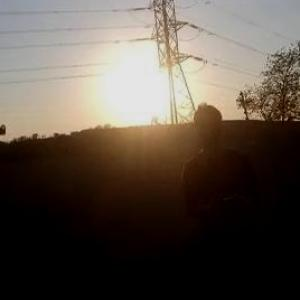follow: (176, 100, 265, 299)
